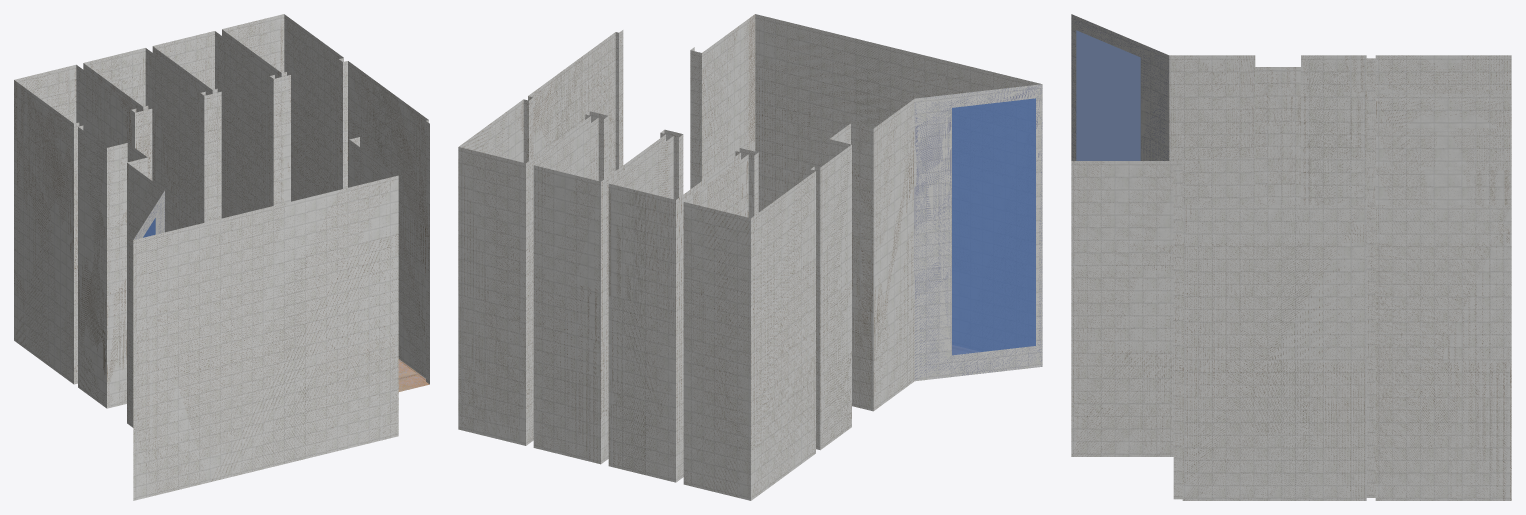
Rendered from COM028.obj.
The picture shows the model from 3 angles, left to right: view 1: azimuth 30°, elevation 25°; view 2: azimuth 150°, elevation 25°; view 3: azimuth 270°, elevation 25°; orthographic projection. The views are drawn at different scales.
Visible parts, largest first — view 1: Mesh1 COM028 Model; view 2: Mesh1 COM028 Model; view 3: Mesh1 COM028 Model.
Part boxes in pixels (left/top/right/bottom): Mesh1 COM028 Model: left=14, top=14, right=429, bottom=500; Mesh1 COM028 Model: left=458, top=14, right=1042, bottom=500; Mesh1 COM028 Model: left=1071, top=14, right=1511, bottom=500.
Bounding box in the file's own units: 4.98 × 3.6 × 4.86.
Materials: 5 (3 with a texture image).
